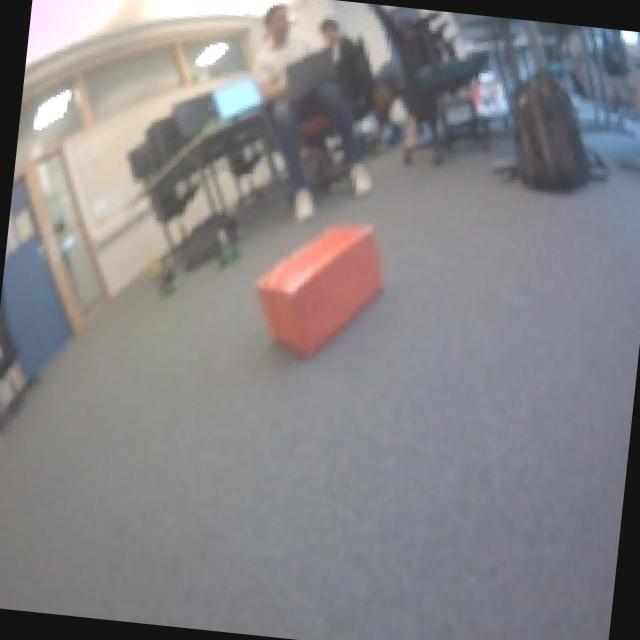robot: (203, 224, 247, 273), (147, 258, 186, 300)
target: (245, 207, 391, 363)
